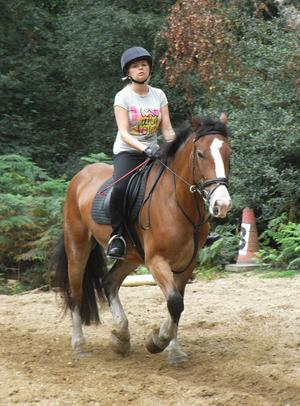person: (106, 45, 176, 263)
